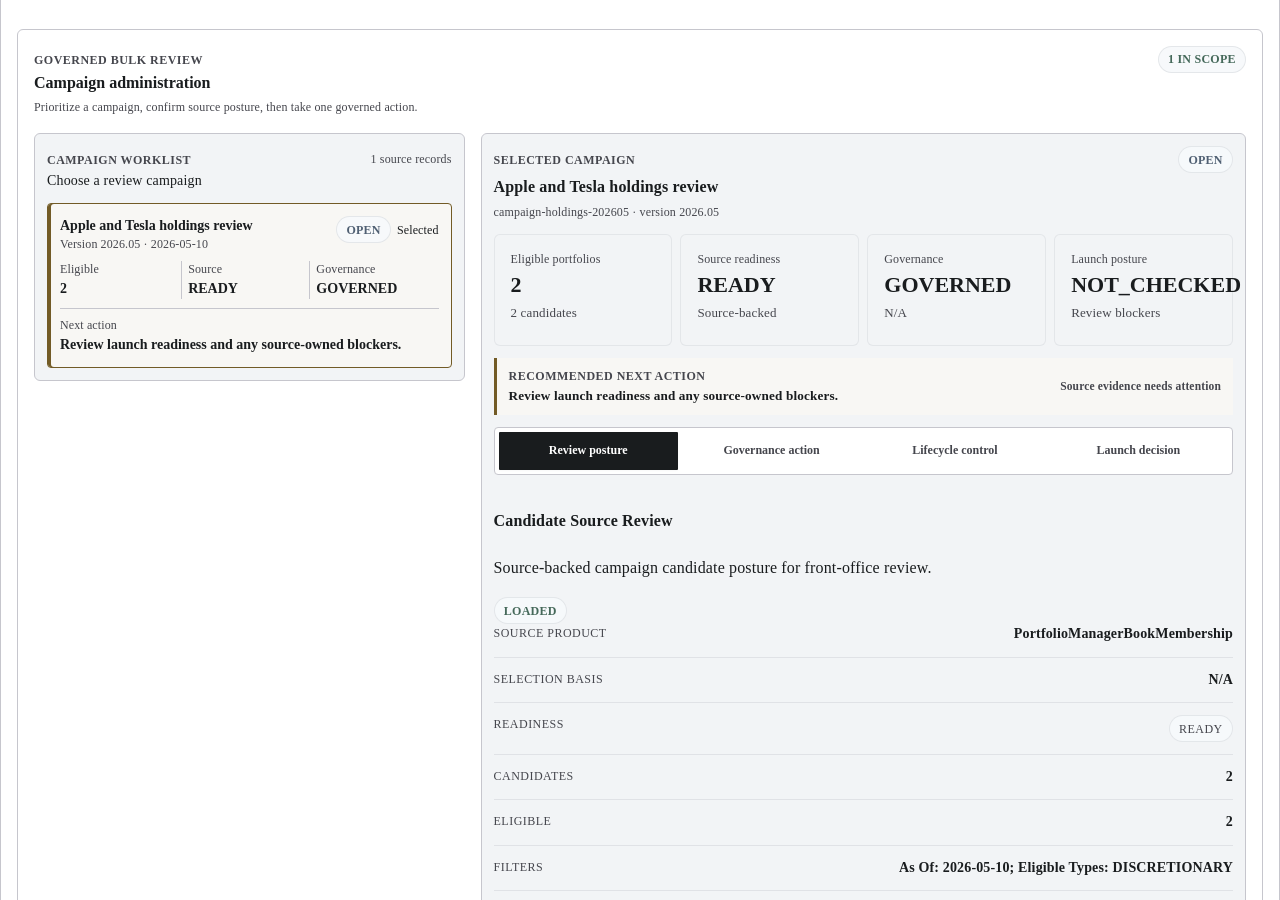
it: DpmWaveCommandCenterPanel › renders blocked campaign preview readiness and keeps launch unavailable
(page scrolled)
Click the button "Launch decision" at (1138, 450), box x1=1049 y1=432 x2=1228 y2=470
(page scrolled)
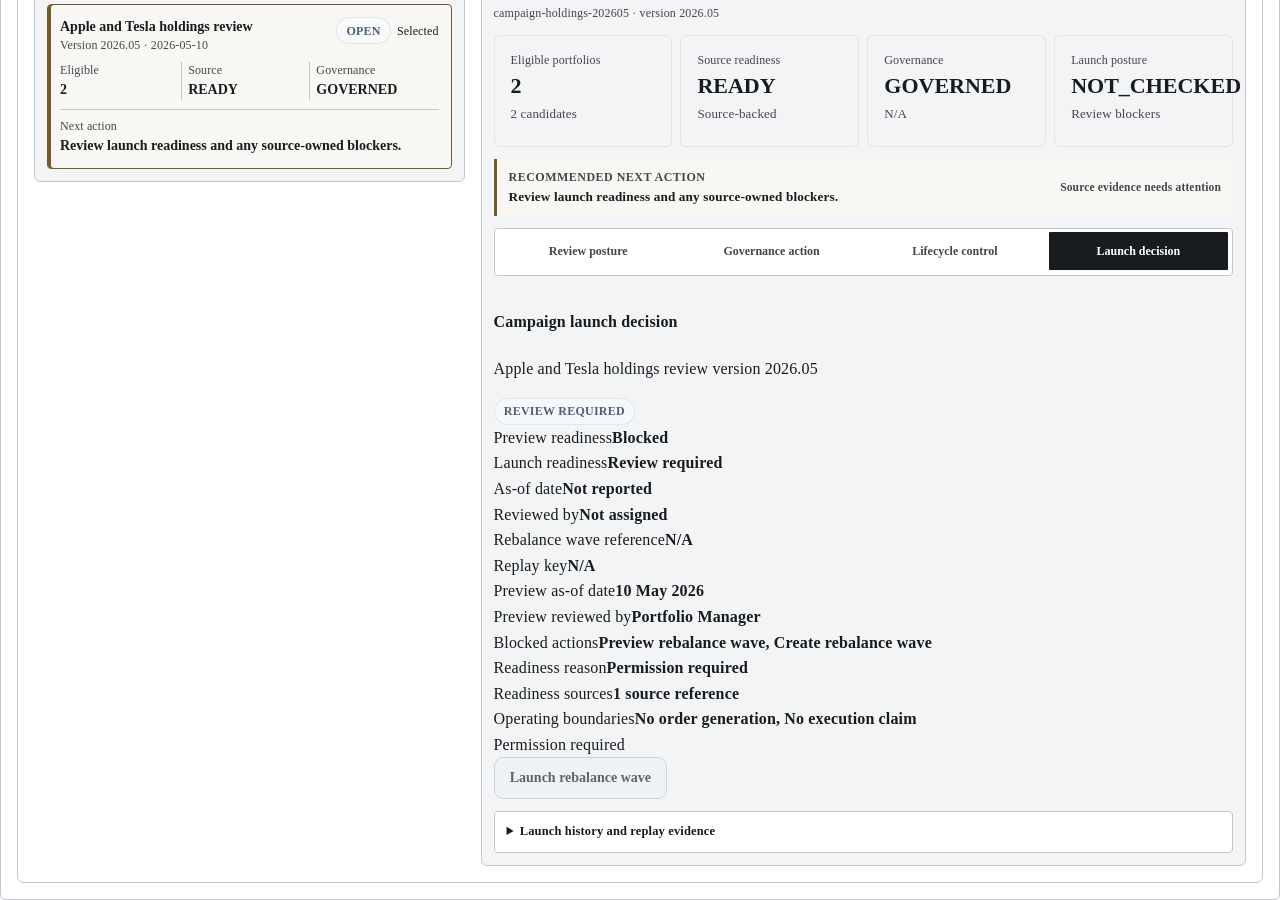
Now the text "Permission required" next to "Readiness reason" is shown, box x1=607 y1=659 x2=748 y2=676
Now the text "Blocked" is shown, box x1=612 y1=429 x2=668 y2=446
Now the text "Preview rebalance wave, Create rebalance wave" is shown, box x1=598 y1=634 x2=932 y2=650
